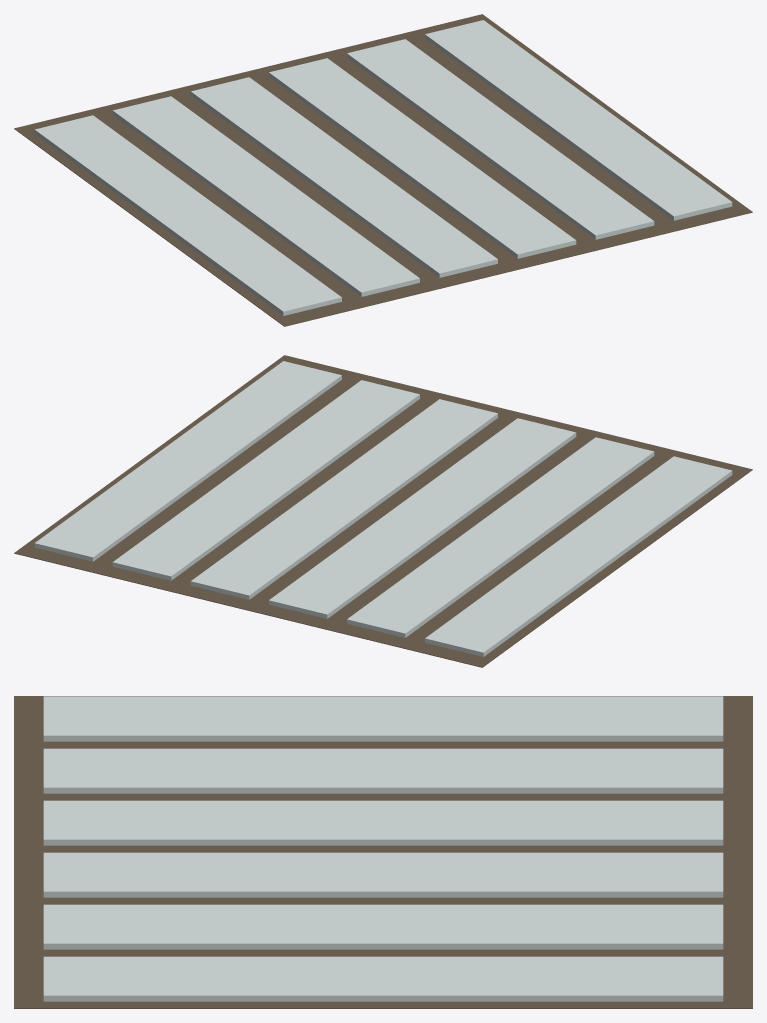
File: far.fbx
3 views of the same model, one above another, from view 1: azimuth 30°, elevation 25°; view 2: azimuth 150°, elevation 25°; view 3: azimuth 270°, elevation 25° (orthographic). The views are drawn at different scales.
Parts seen in each view (by area): view 1: a1002/500/far; view 2: a1002/500/far; view 3: a1002/500/far.
Part boxes in pixels (x1,y1,x2,y2): a1002/500/far: (14,14,752,326); a1002/500/far: (14,355,752,667); a1002/500/far: (14,696,752,1008).
Bounding box in the file's own units: 50 × 0.5 × 50.
